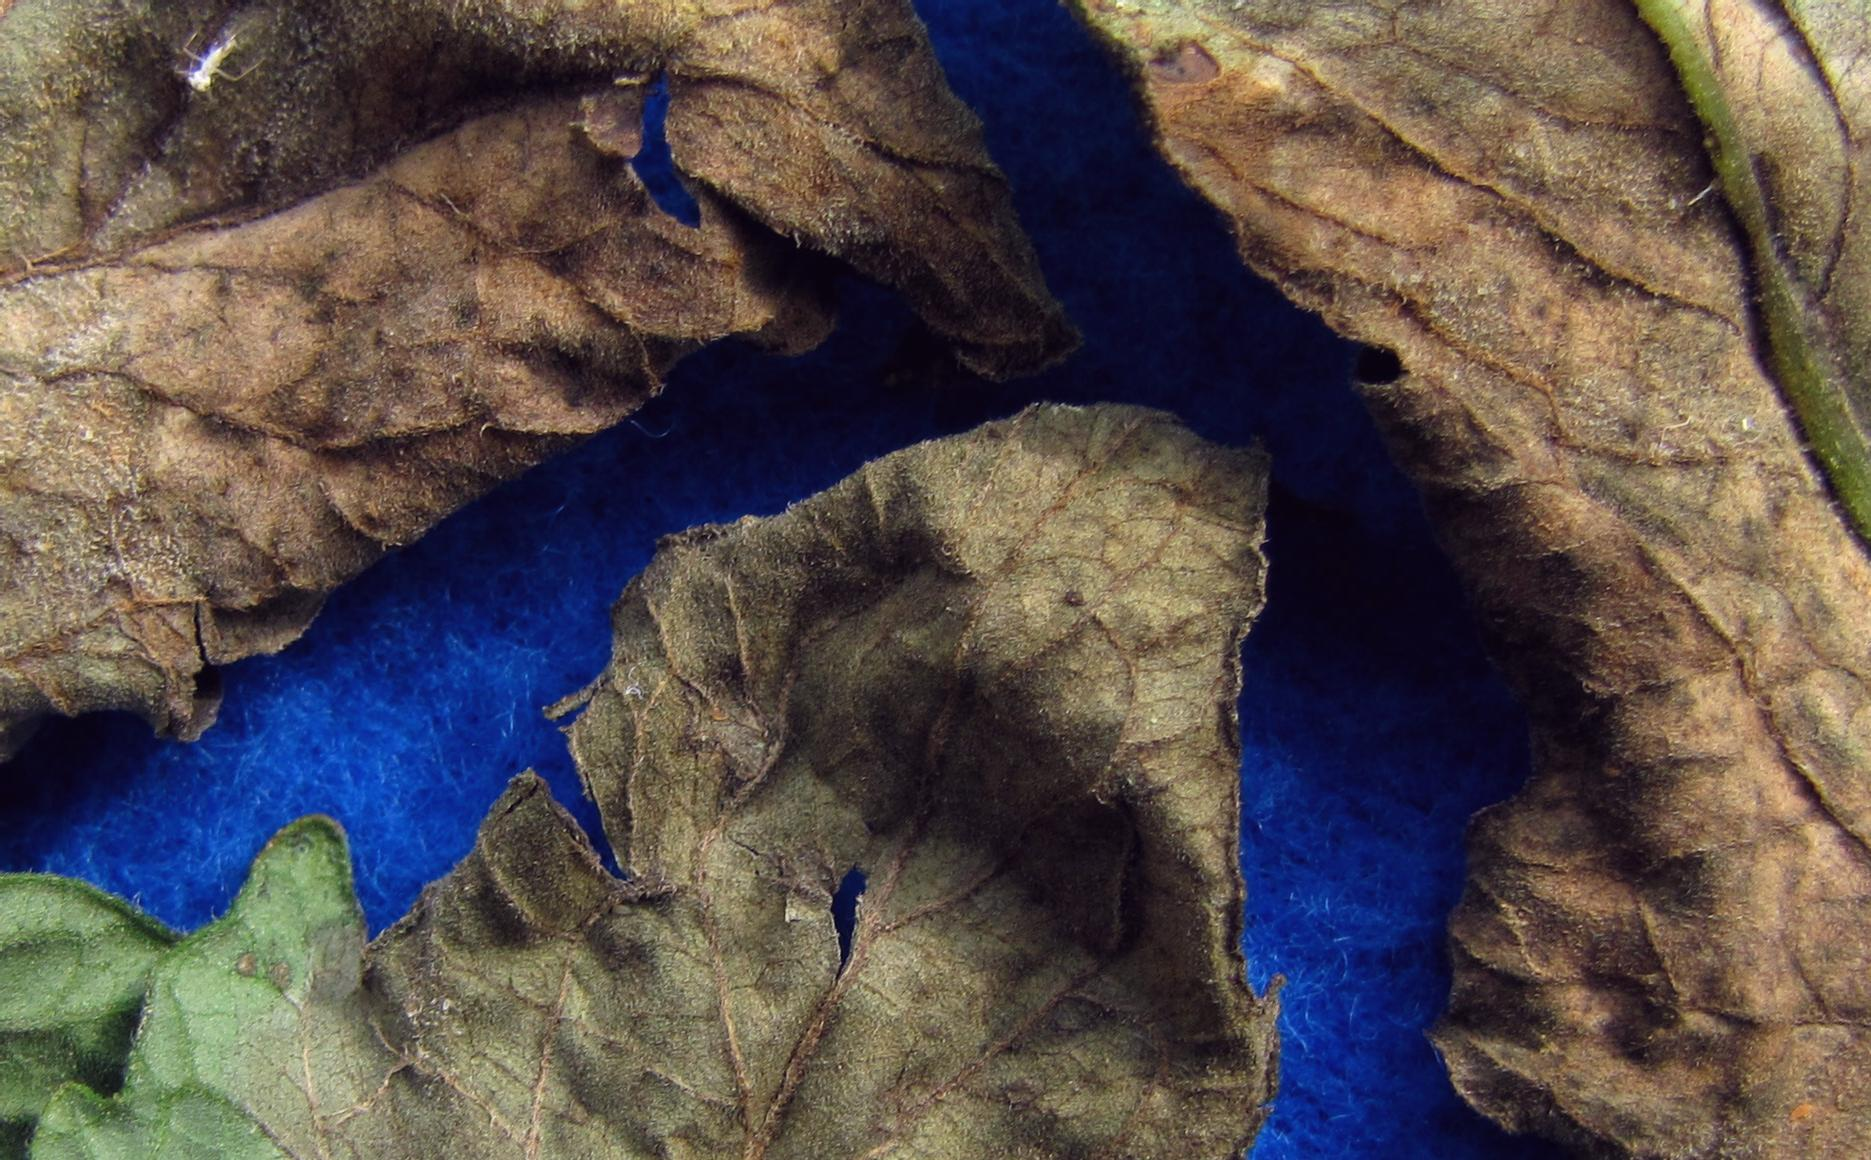Tomato leaf late blight: (0, 0, 980, 1160), (0, 388, 1413, 1160)
